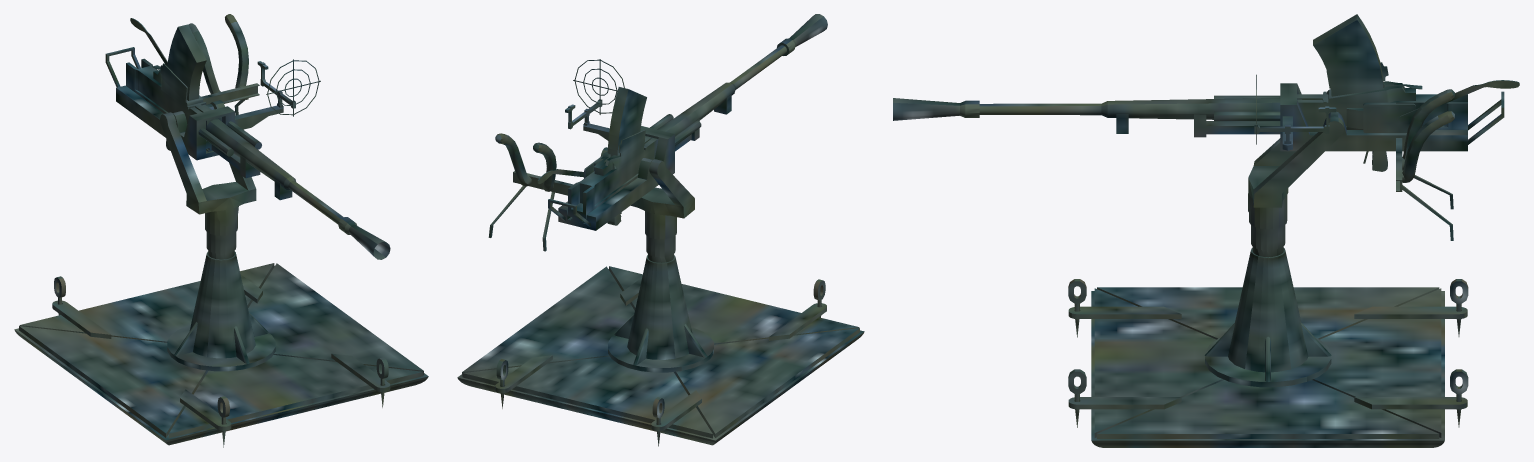
File: gun.FBX
3 renders of one model, left to right at view 1: azimuth 30°, elevation 25°; view 2: azimuth 150°, elevation 25°; view 3: azimuth 270°, elevation 25°, orthographic. The views are drawn at different scales.
Parts seen in each view (by area): view 1: 25ANCHOR, 25ACHASS, 25AGUN; view 2: 25ANCHOR, 25ACHASS, 25AGUN; view 3: 25ANCHOR, 25AGUN, 25ACHASS.
Boxes of the visible parts, x1,y1,x2,y2 form: 25ANCHOR: (14, 211, 428, 447); 25ACHASS: (105, 14, 320, 225); 25AGUN: (126, 18, 390, 259); 25ANCHOR: (457, 211, 864, 446); 25ACHASS: (488, 59, 701, 251); 25AGUN: (537, 14, 827, 223); 25ANCHOR: (1068, 195, 1468, 447); 25AGUN: (893, 14, 1519, 137); 25ACHASS: (1206, 74, 1504, 240).
Bounding box in the file's own units: 3618 × 4155 × 6412.
